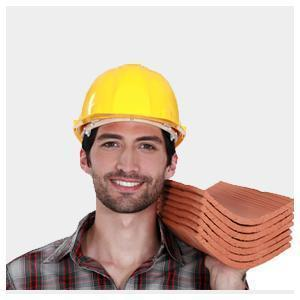helmet: (73, 64, 188, 146)
